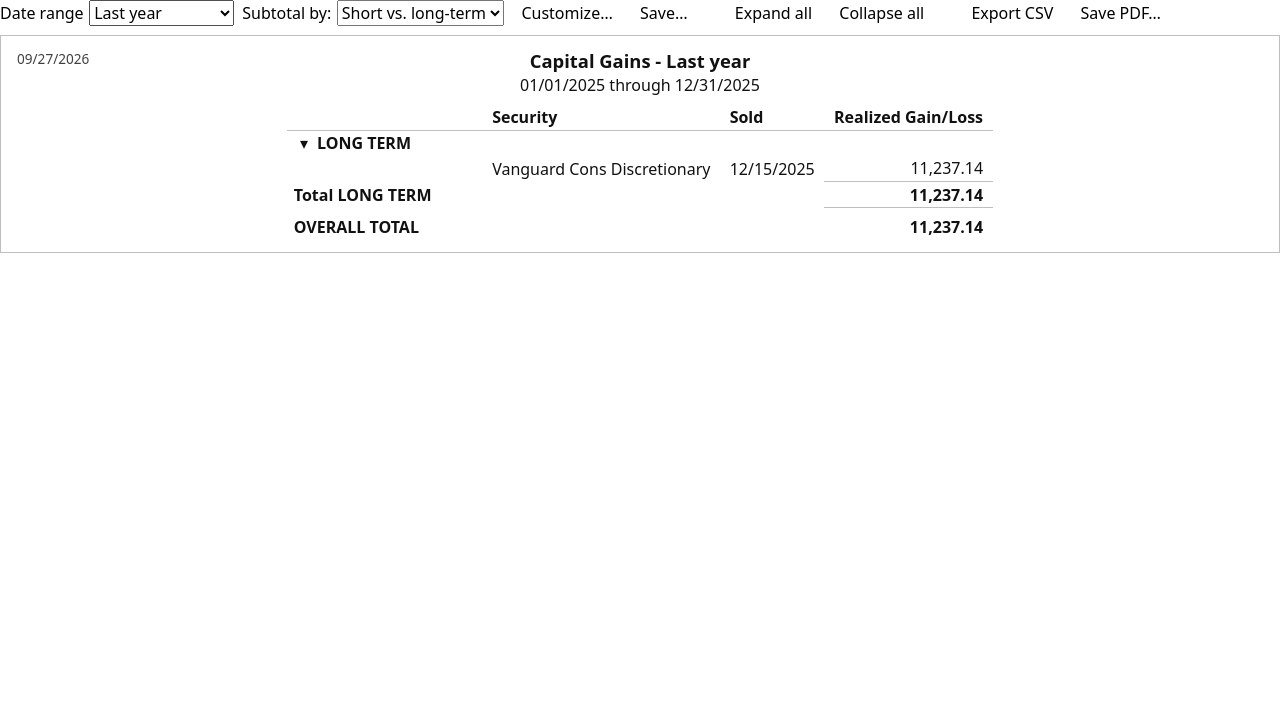
Test: Report window › custom dates open a dialog and apply its range
Select "Custom dates…" in the dropdown labelled "Date range" at [162, 13], box left=89, top=0, right=234, bottom=26
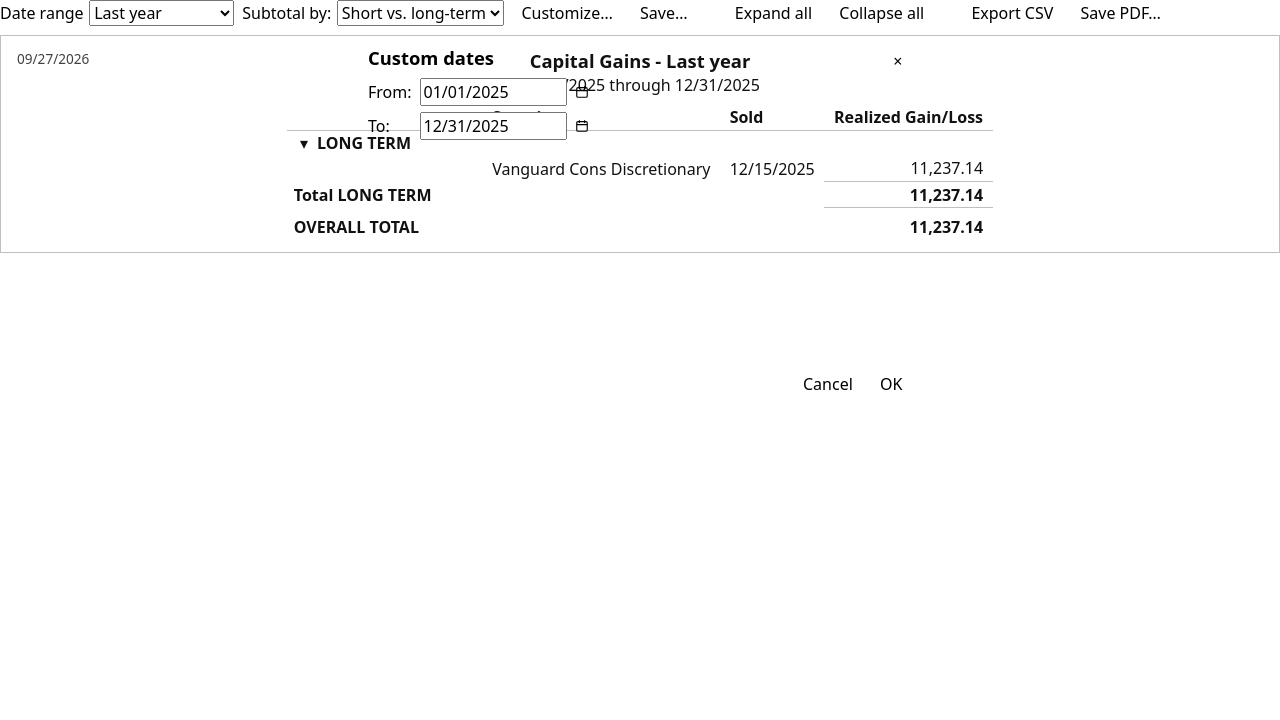
Replace the text in the field named "From" with "03/01/2025" at [493, 92], box left=420, top=78, right=566, bottom=106
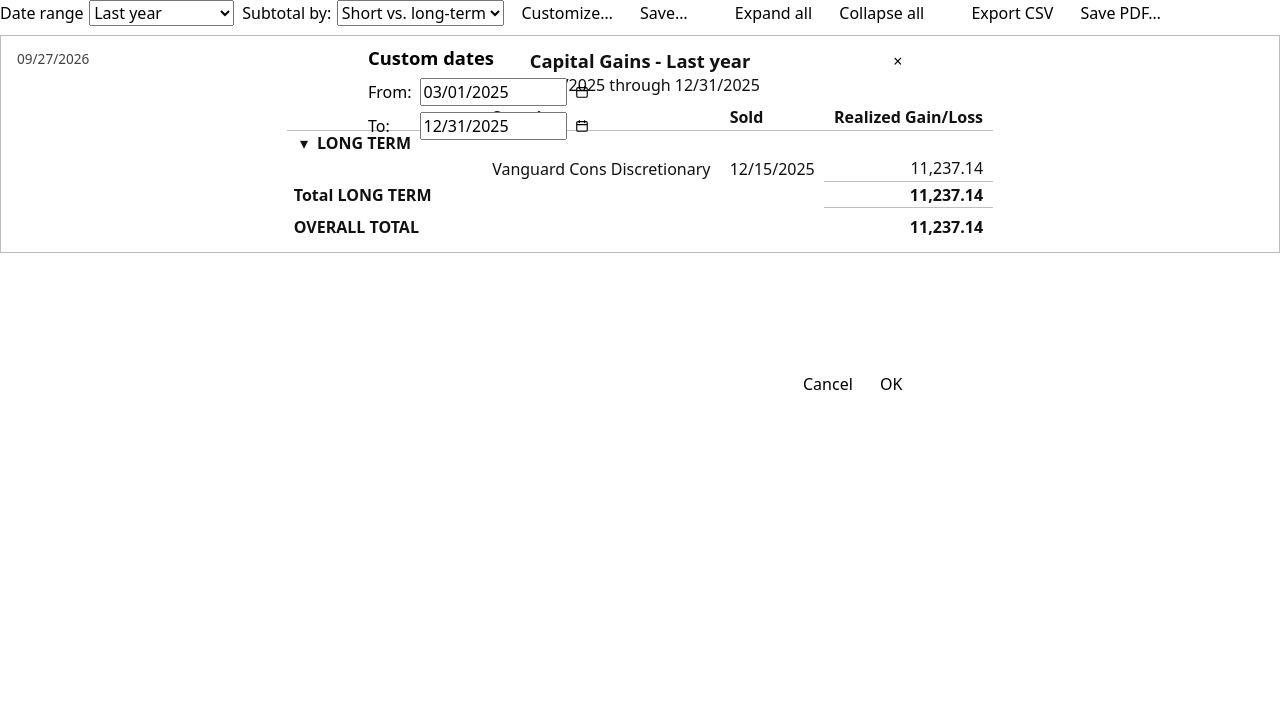
Replace the text in the field named "To" with "02/01/2025" at [493, 126], box left=420, top=112, right=566, bottom=140
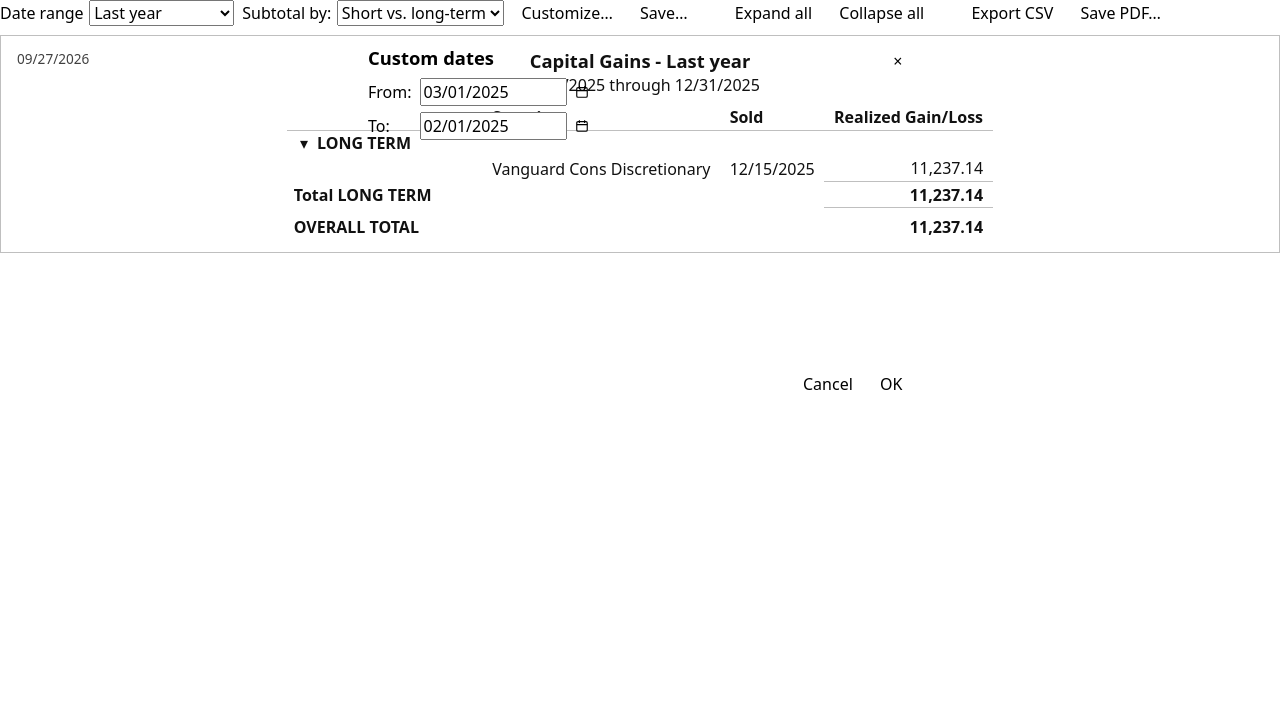
Click the button "OK" at [891, 384], box left=870, top=371, right=912, bottom=398
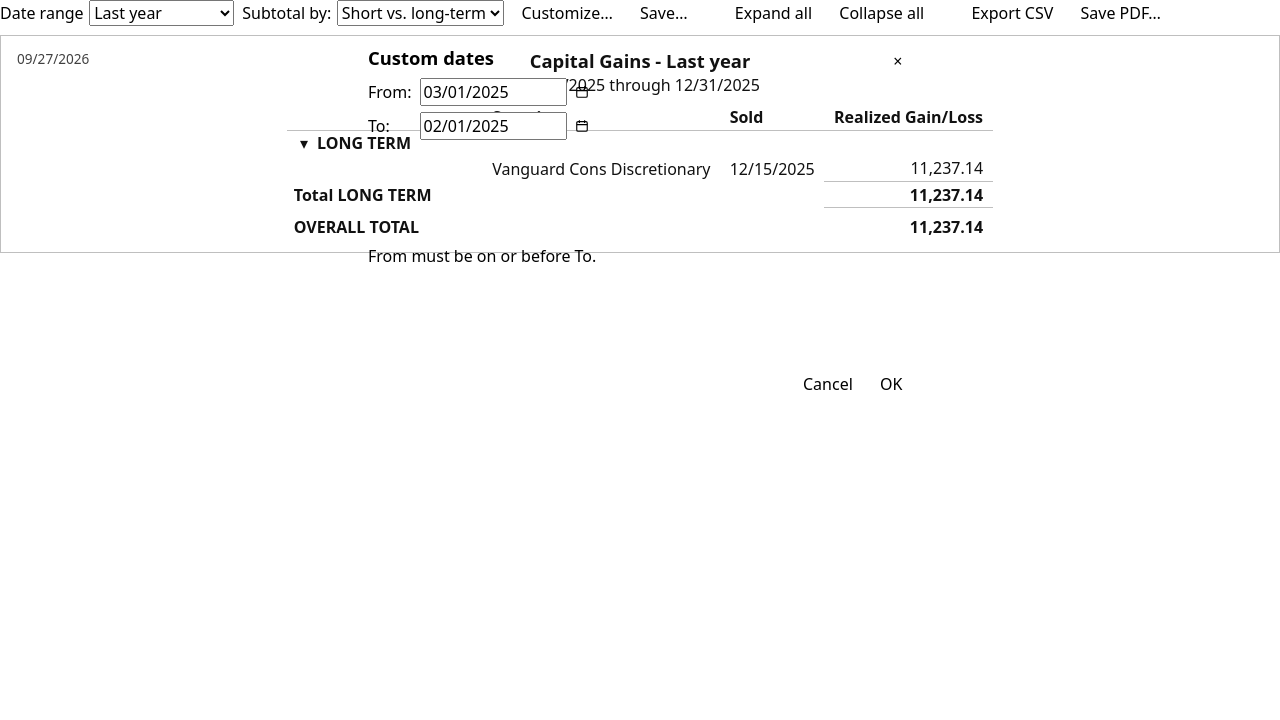
Now the message shows "From must be on or before To", box left=368, top=245, right=596, bottom=267
Replace the text in the field named "To" with "06/30/2025" at [493, 126], box left=420, top=112, right=566, bottom=140
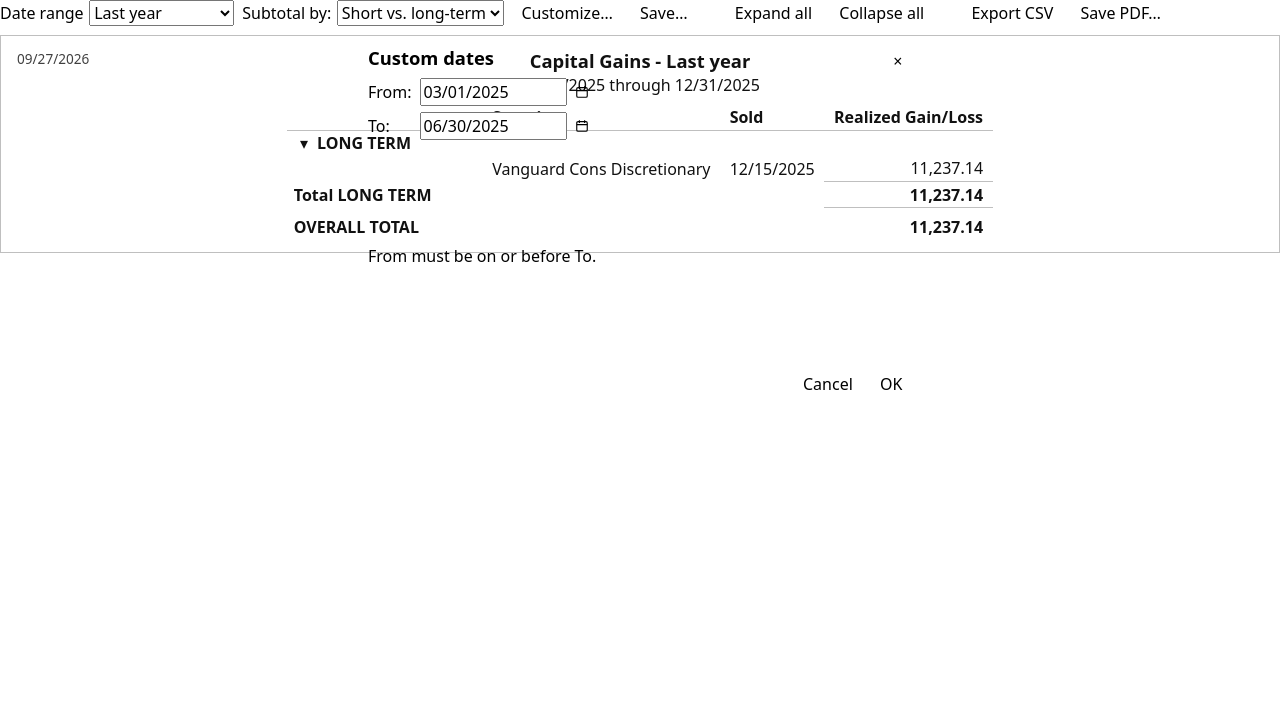
Click the button "OK" at [891, 384], box left=870, top=371, right=912, bottom=398
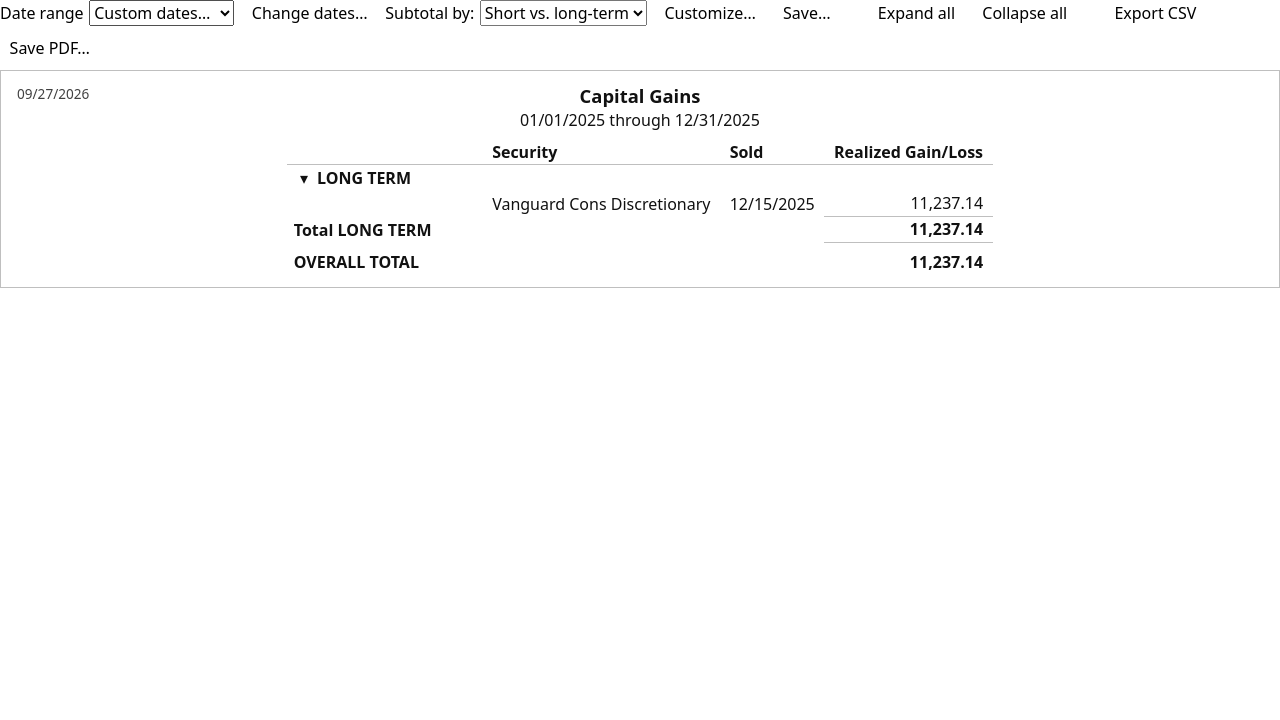
Now the button "Change dates…" is shown, box left=242, top=0, right=377, bottom=27
